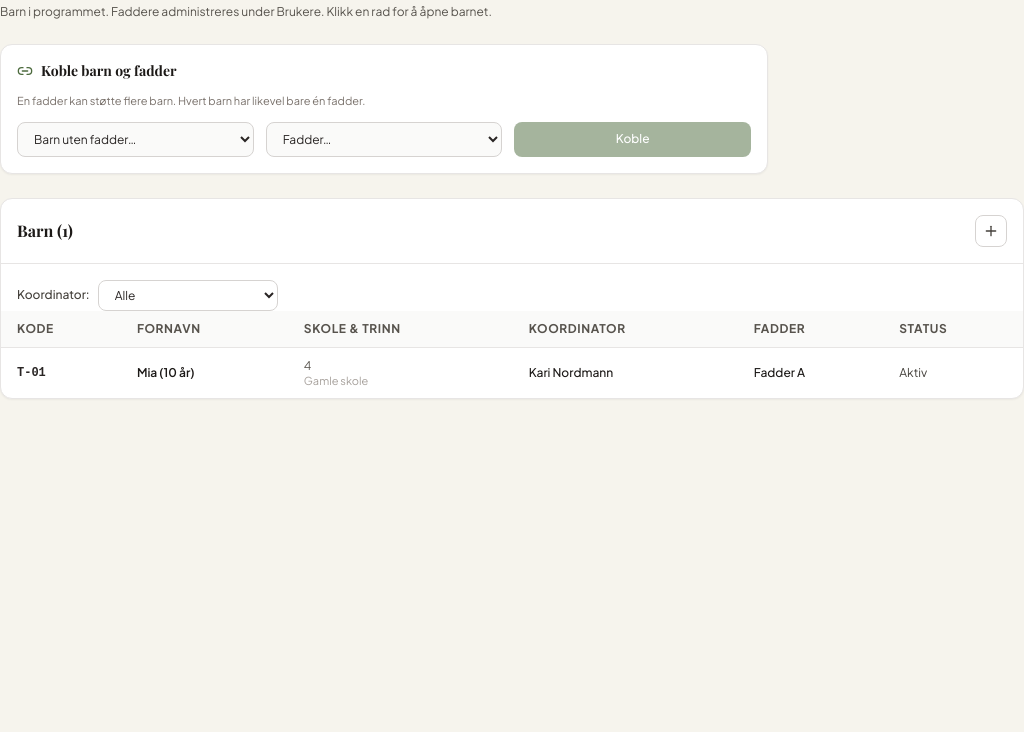
Opplysninger › lagre er deaktivert før noe er endret, og lagrer bare det som er endret
Click the text "T-01" at (31, 373), box [1,347,121,398]
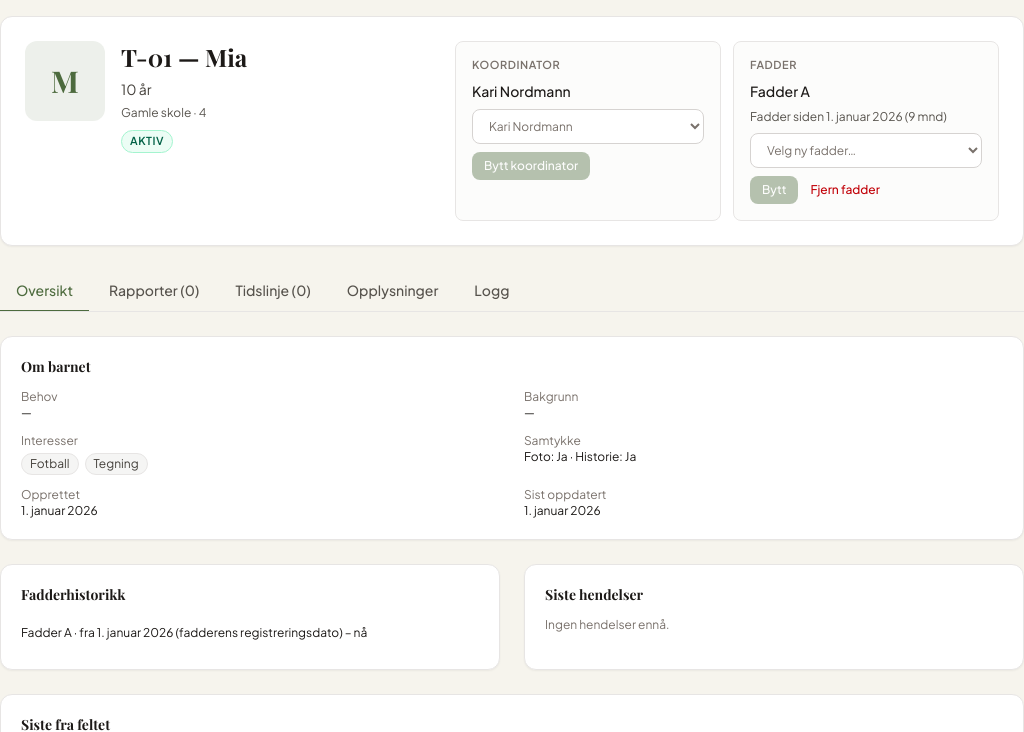
Click the tab "Opplysninger" at (393, 291), box [331,270,454,312]
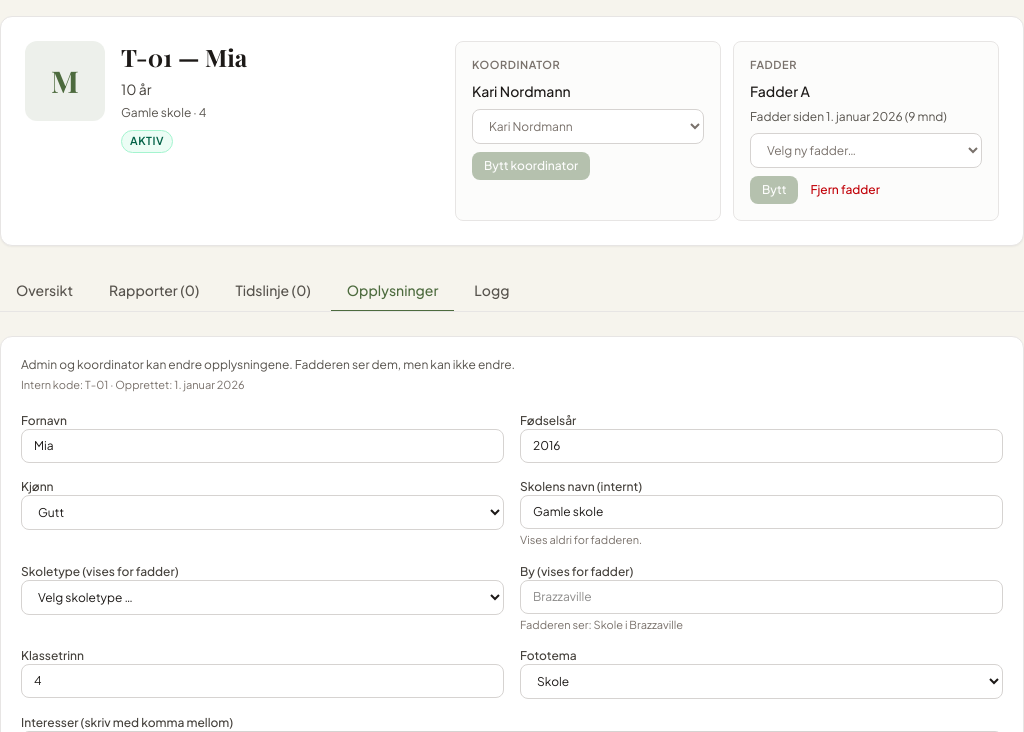
Replace the text in the field labelled "Skolens navn (internt) Vises aldri for fadderen." with "Ny skole" at (762, 512), box [520,495,1003,529]
(page scrolled)
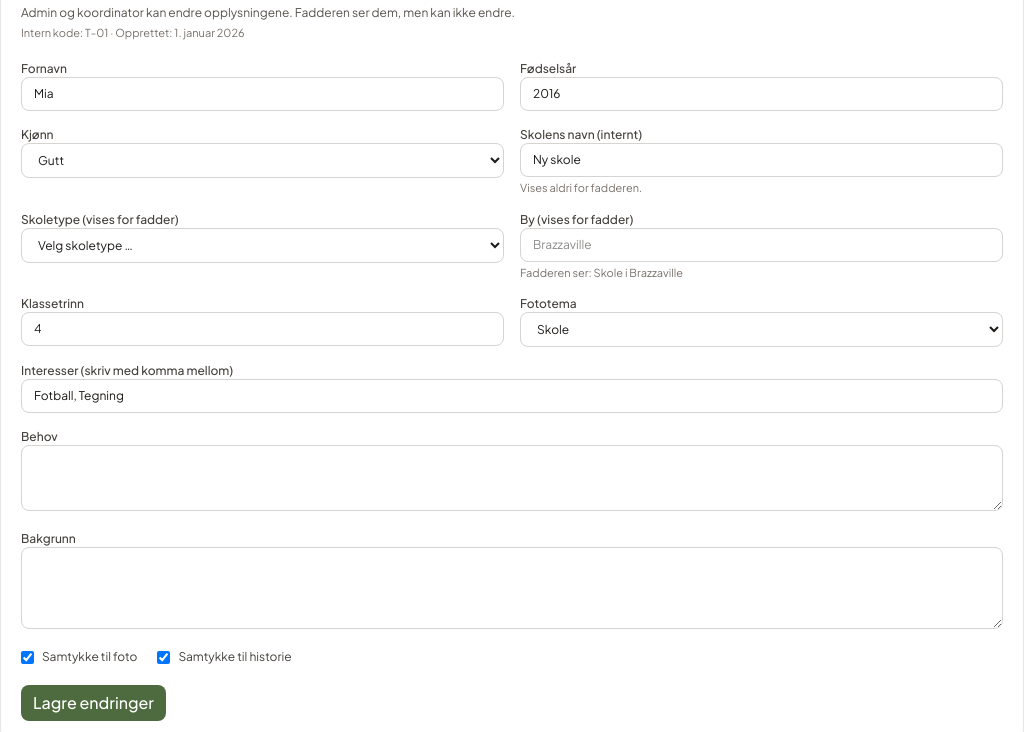
Expected: the button "Lagre endringer" is enabled
Click the button "Lagre endringer" at (94, 704), box [21,686,166,722]
(page scrolled)
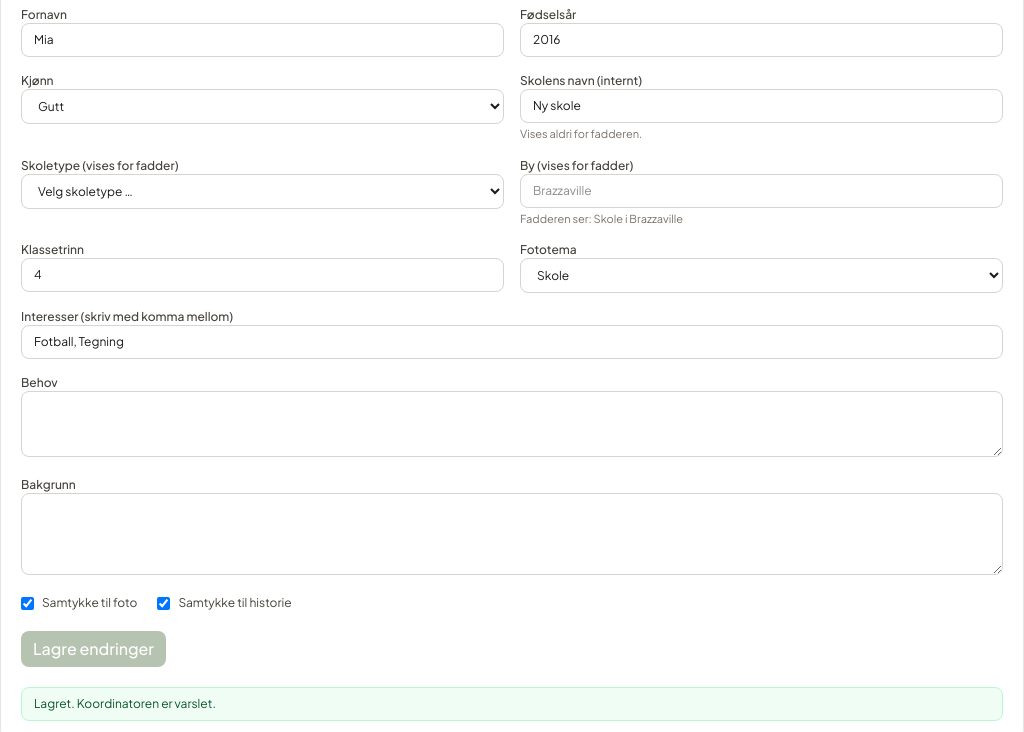
Expected: the text "Lagret. Koordinatoren er varslet." is shown, [21,688,1003,722]
